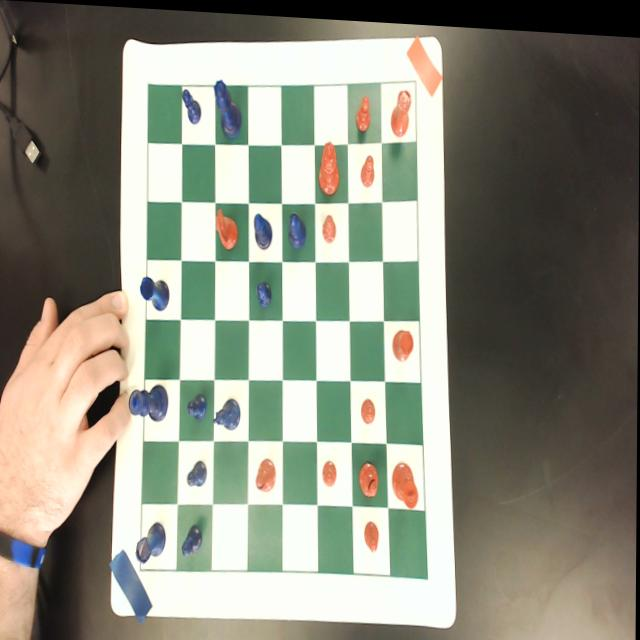B: (254, 210, 274, 247), (288, 209, 306, 246)
K: (130, 381, 170, 422)
N: (211, 393, 242, 429)
P: (182, 521, 204, 557), (182, 87, 202, 123), (186, 455, 208, 487), (187, 389, 207, 419), (256, 277, 274, 306)
Q: (213, 74, 242, 136)
R: (136, 518, 167, 563), (140, 274, 170, 310)
b: (359, 457, 380, 494), (256, 454, 277, 489)
cb: (141, 76, 428, 573)
k: (393, 457, 420, 504)
n: (215, 204, 239, 248)
p: (355, 89, 372, 129), (364, 515, 381, 550), (360, 148, 375, 183), (322, 210, 337, 240), (361, 393, 377, 420), (323, 456, 338, 482)
q: (318, 137, 341, 192)
r: (391, 82, 411, 134), (393, 323, 415, 359)
